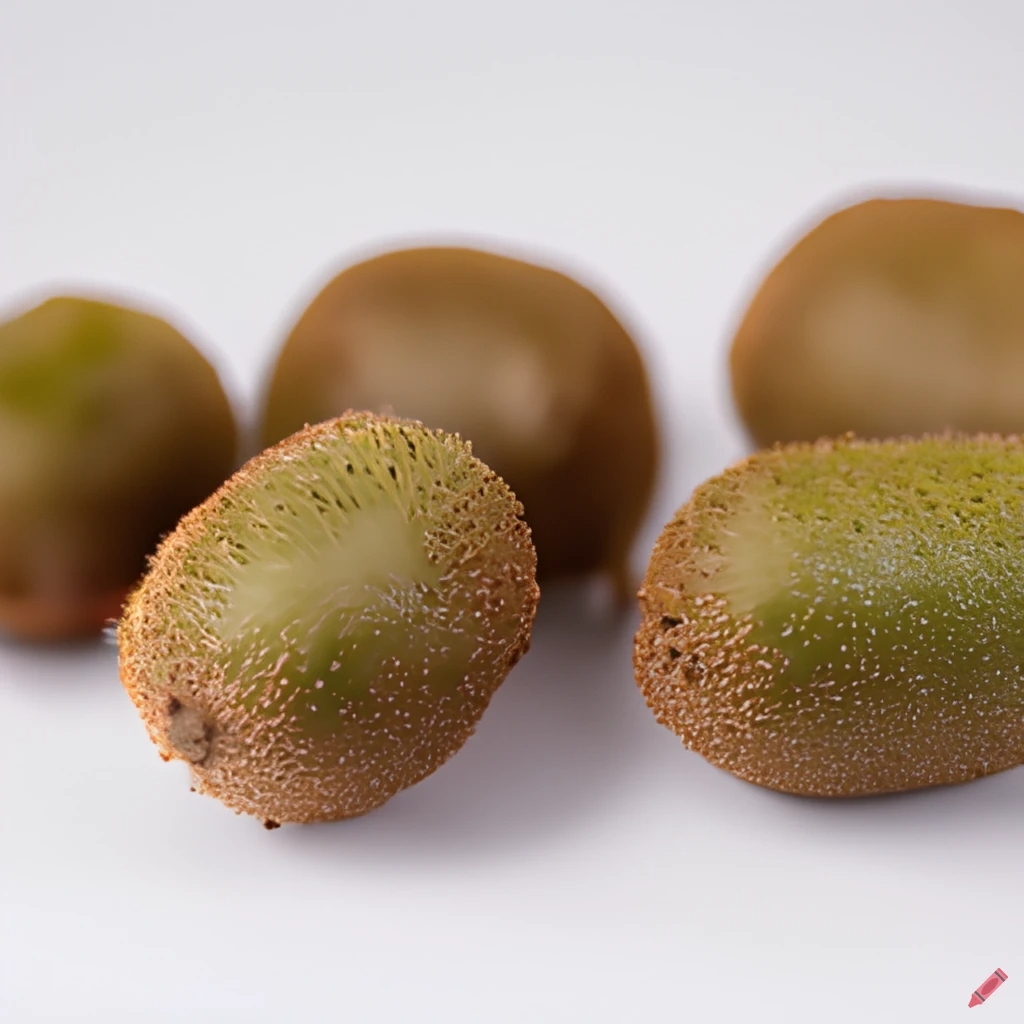Kiwi: (115, 432, 530, 852), (644, 421, 1024, 796)
